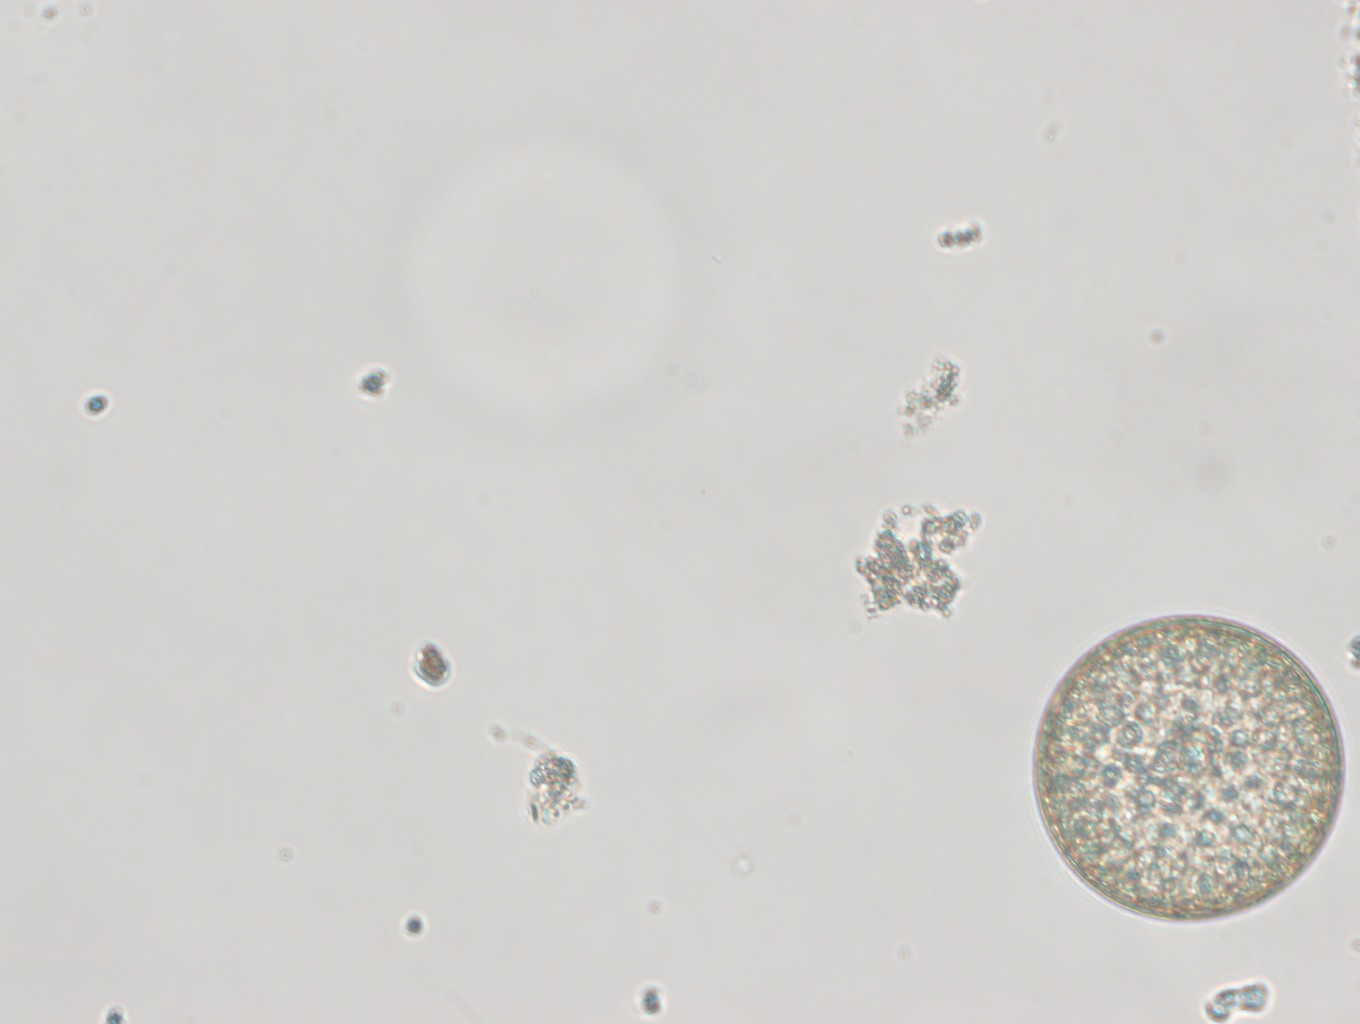coscinodiscus: (1027, 612, 1348, 927)
